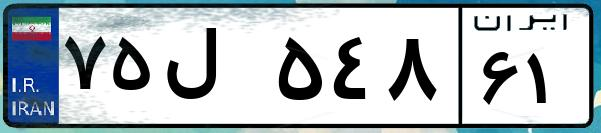1: (525, 38, 570, 115)
4: (330, 28, 385, 110)
5: (270, 28, 330, 110), (110, 28, 158, 98)
6: (475, 38, 525, 113)
7: (57, 26, 110, 100)
8: (385, 28, 445, 110)
ل: (158, 20, 270, 120)
